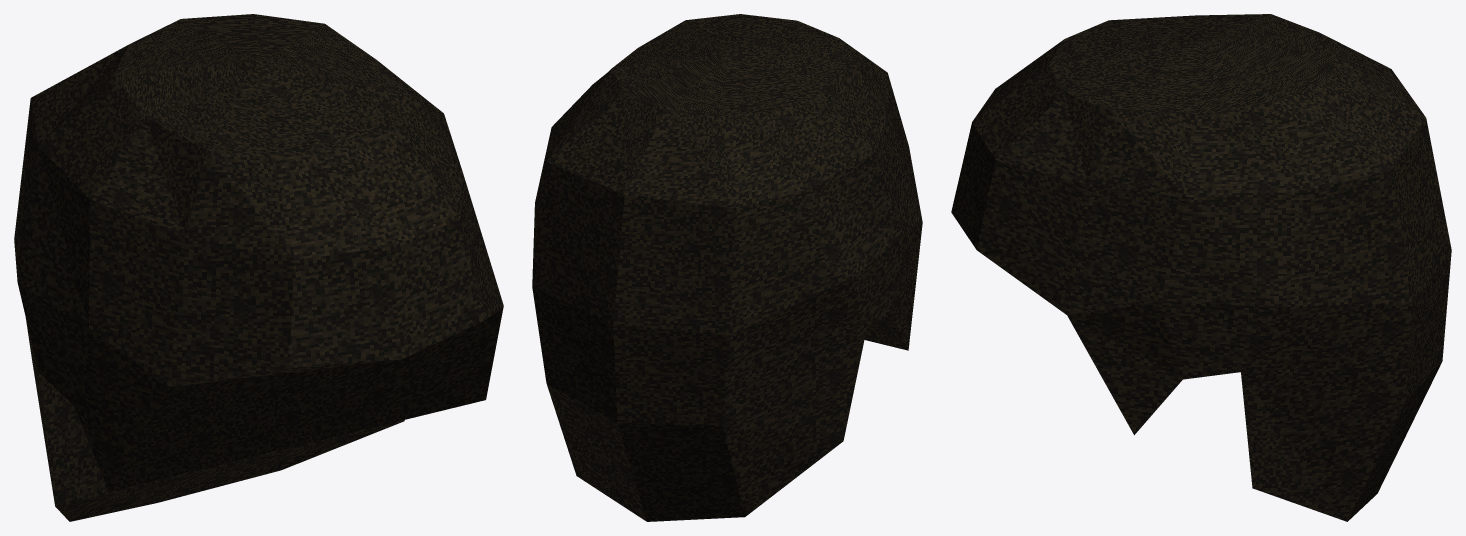
The model's file is medium01.glb.
3 renders of one model, left to right at view 1: azimuth 30°, elevation 25°; view 2: azimuth 150°, elevation 25°; view 3: azimuth 270°, elevation 25°, orthographic. The views are drawn at different scales.
Parts seen in each view (by area): view 1: obj_local_medium01; view 2: obj_local_medium01; view 3: obj_local_medium01.
Part boxes in pixels (x1=…): obj_local_medium01: x1=14, y1=14, x2=503, y2=521; obj_local_medium01: x1=532, y1=14, x2=922, y2=521; obj_local_medium01: x1=951, y1=14, x2=1451, y2=521.
Size of the model in its own units: 0.172 by 0.215 by 0.216.
1 material, 1 textured.
